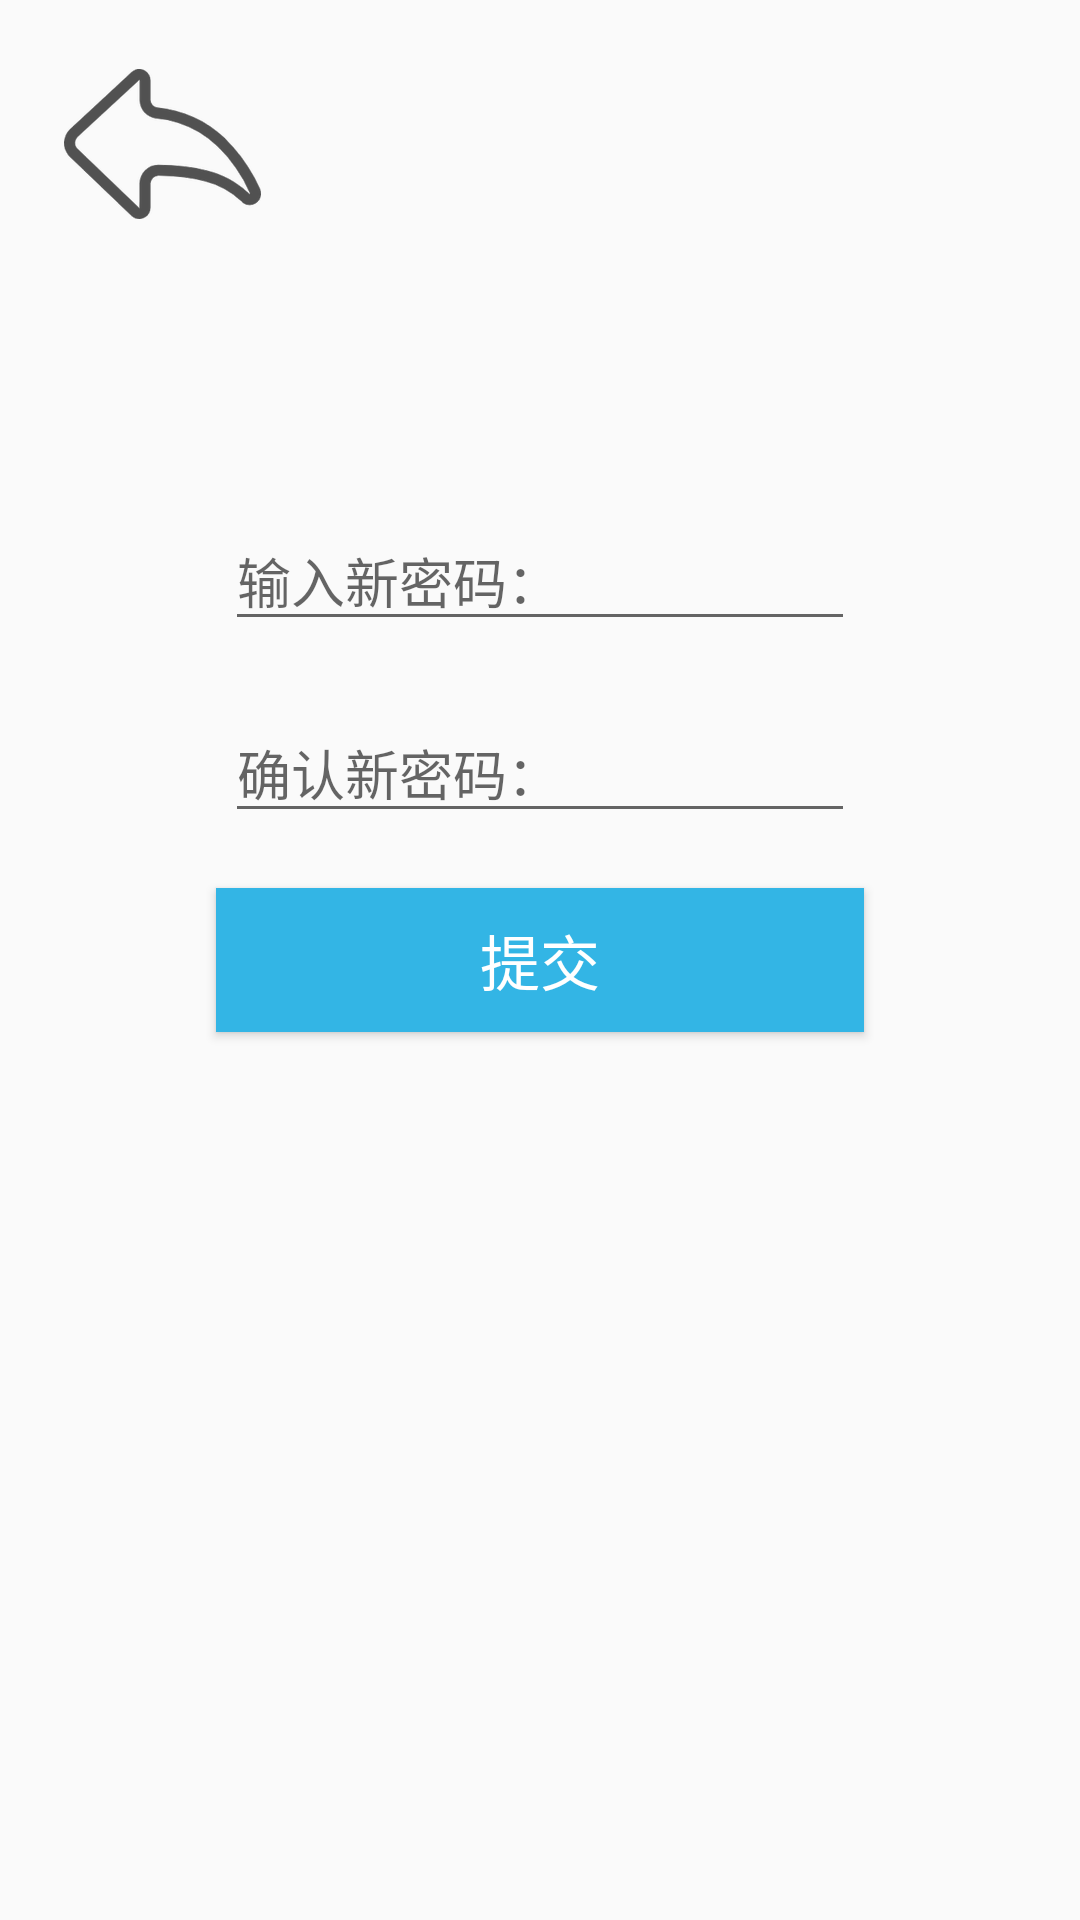

Point at icon controls on the screen. Image size 1080w x 1920h, points as (x,y).
fanhui: (162,144)
